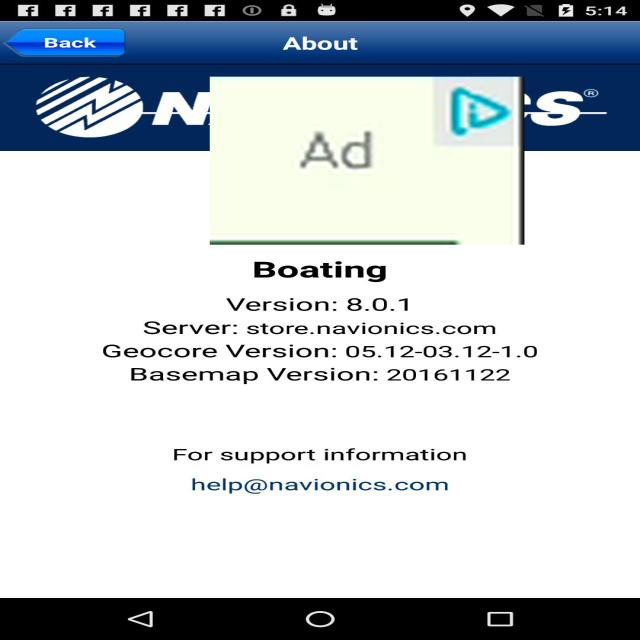sneaking: (210, 76, 524, 245)
